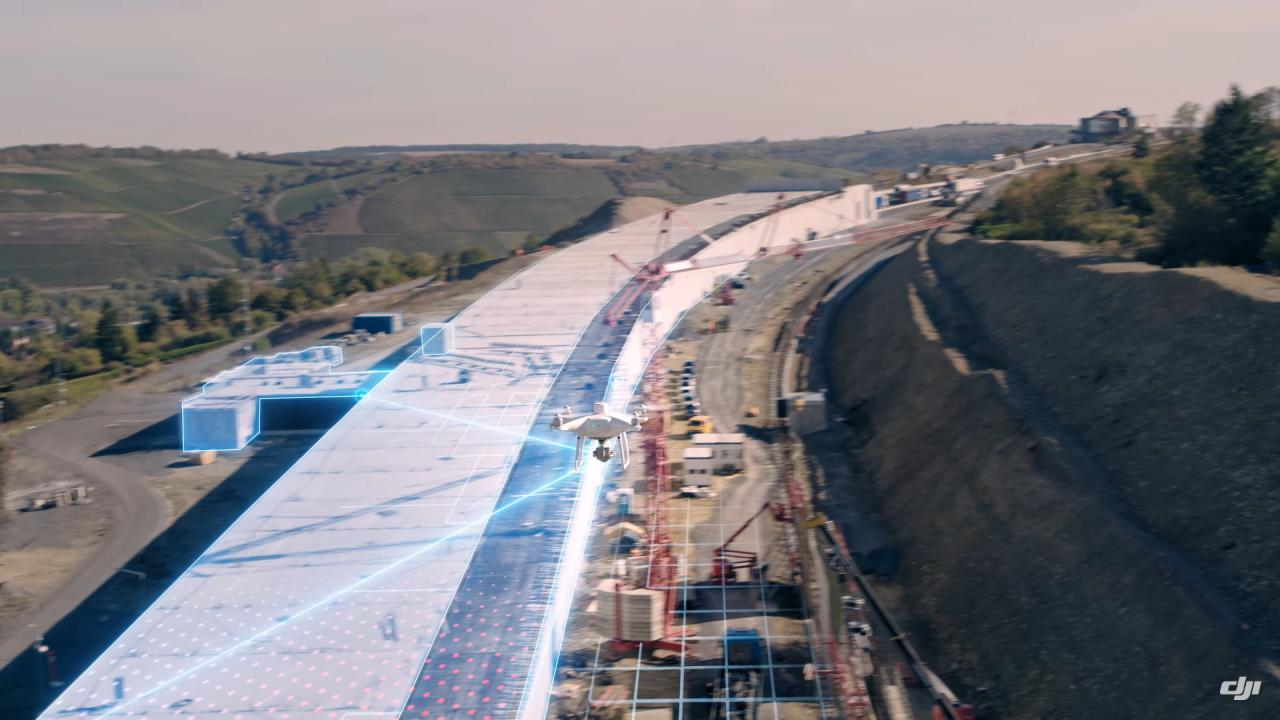Drone: (522, 392, 684, 476)
